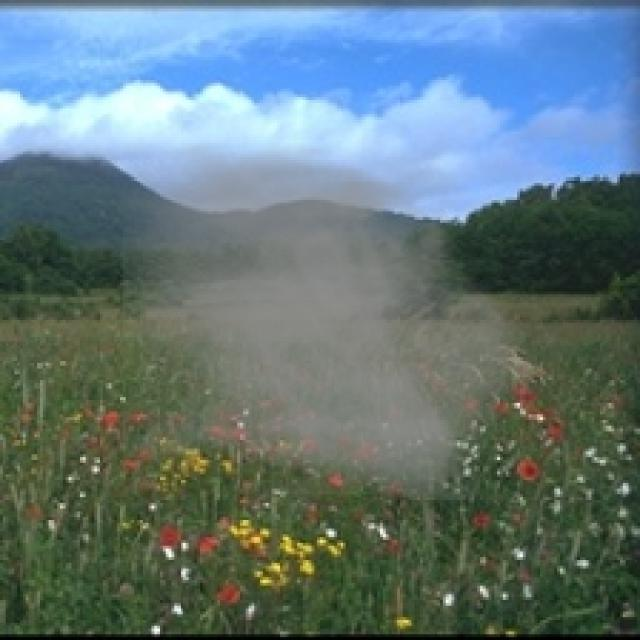Smoke: (123, 143, 543, 500)
